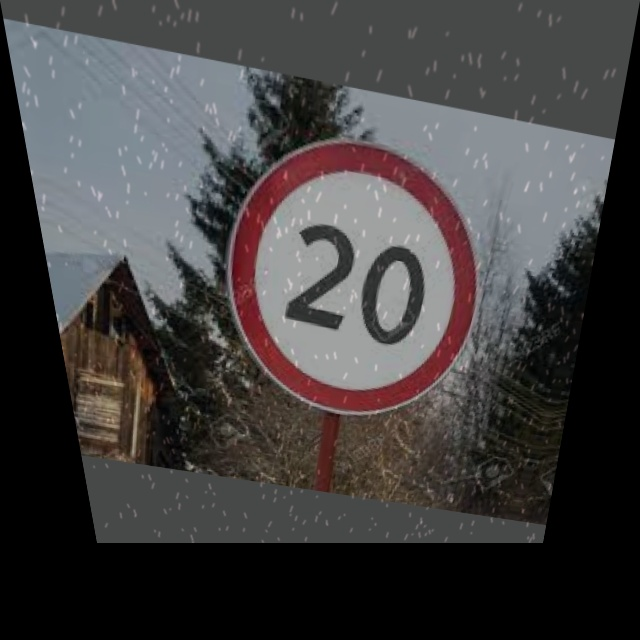Speed_Limit_20: (195, 118, 520, 426)
